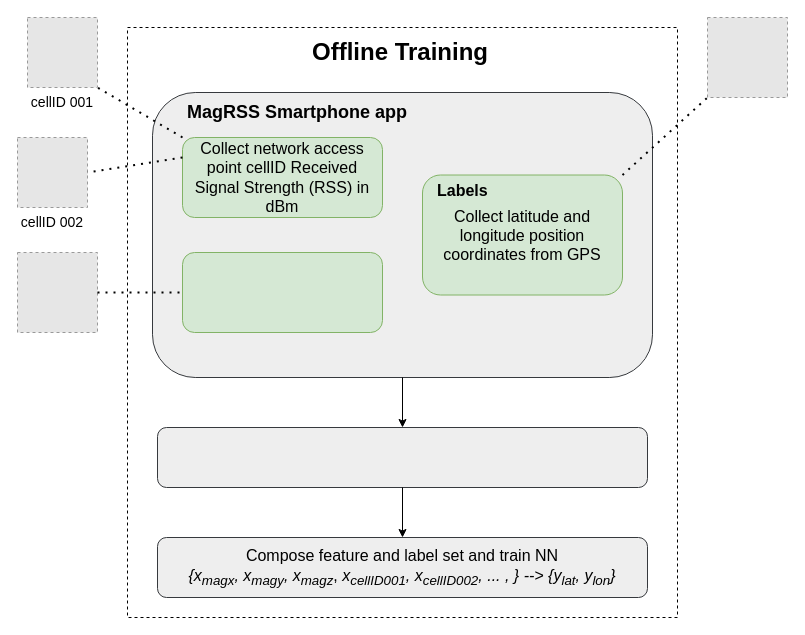
Image size: 805x635. Some labels were removed from this diagram. Grey dashed boxes stand in for pictures. The shapes that lost their labels are listed below. From the top down, each one's centre as x and y in pixels, then its label:
the point at 282,292: Collect Earth's geomagnetic field intensity in μT
the point at 402,457: Data per-processing and cleanup, Pandas (python) Dataframes creation
